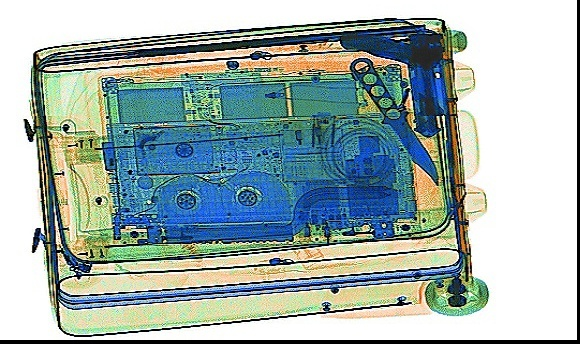knife: (348, 55, 440, 185), (336, 26, 445, 72), (396, 34, 440, 138)
